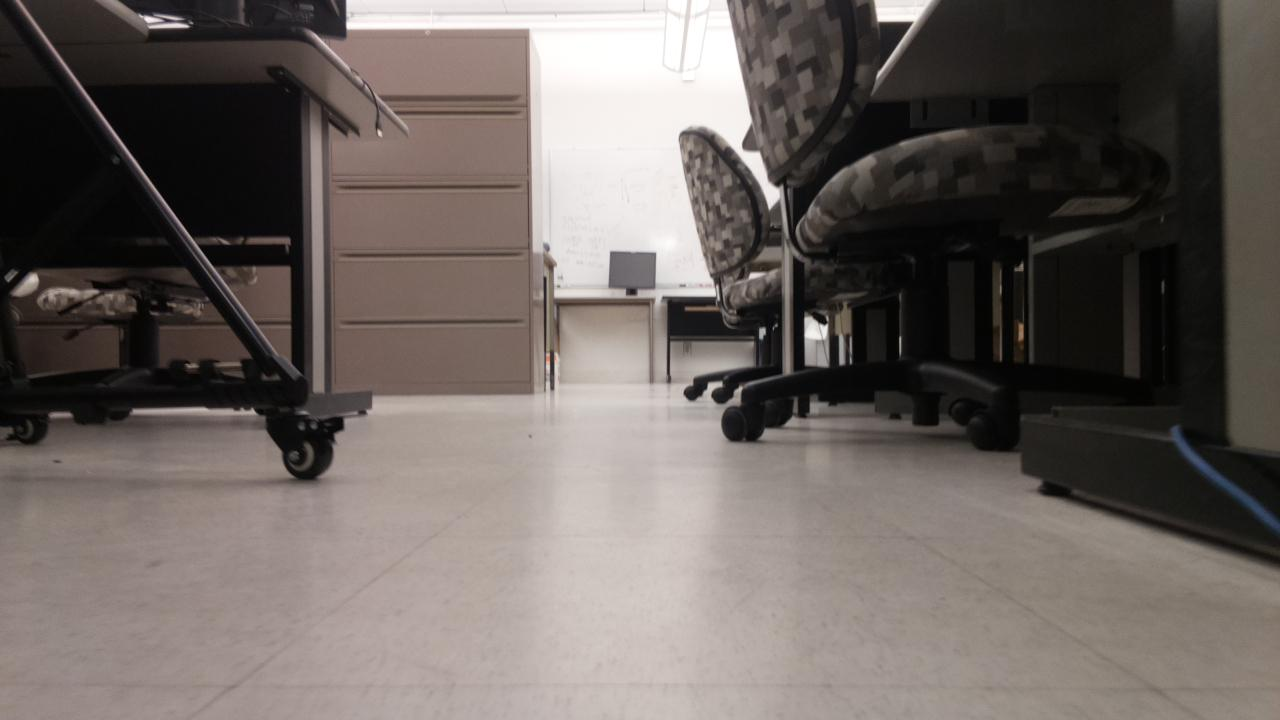tvmonitor: (609, 252, 655, 287)
